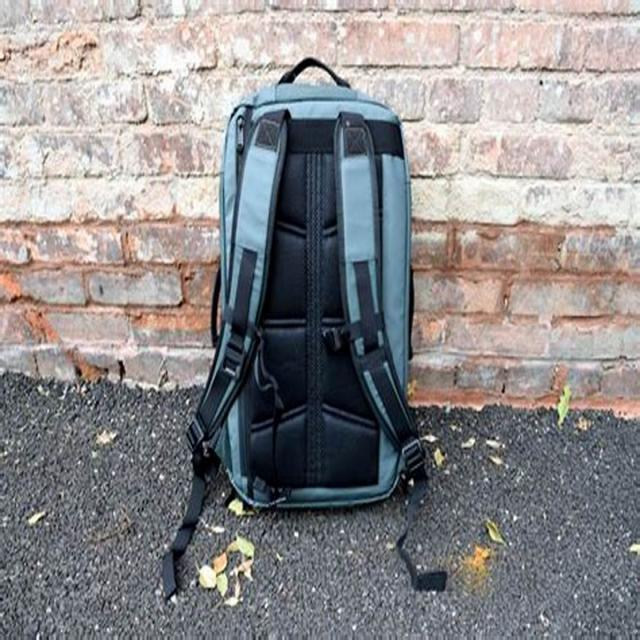Backpacks: (218, 56, 414, 512)
